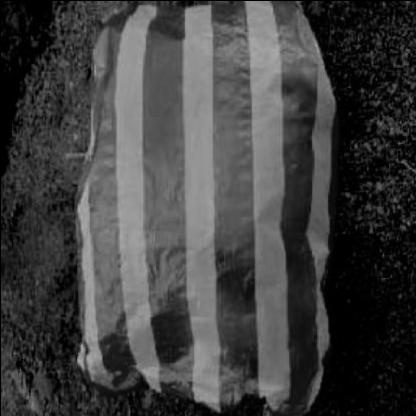objects: (73, 0, 338, 414)
